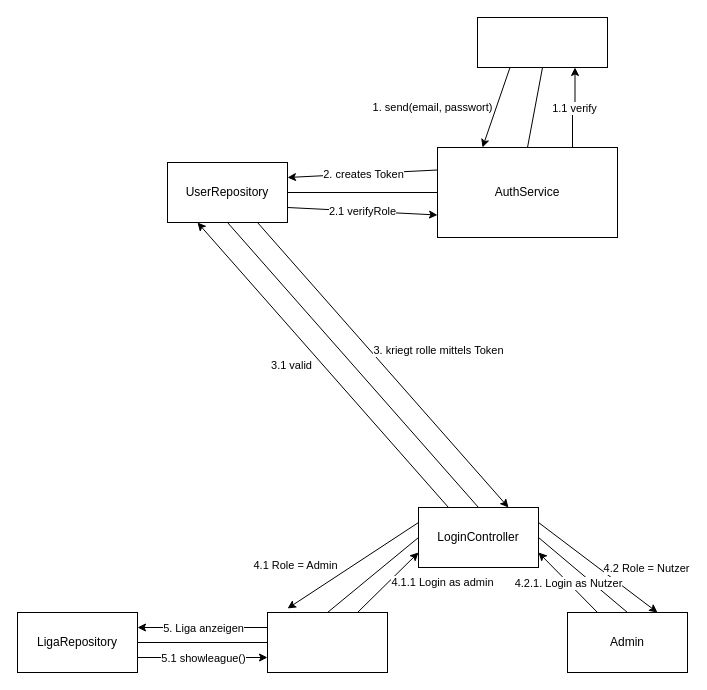
Some shapes in this 707 by 690 pixel diagram are drawn without their labels. Here are the shapes that lost their labels. From the top down, the centre of each, then its label:
At (542,42): "Login".
At (327,642): "Nutzer".
